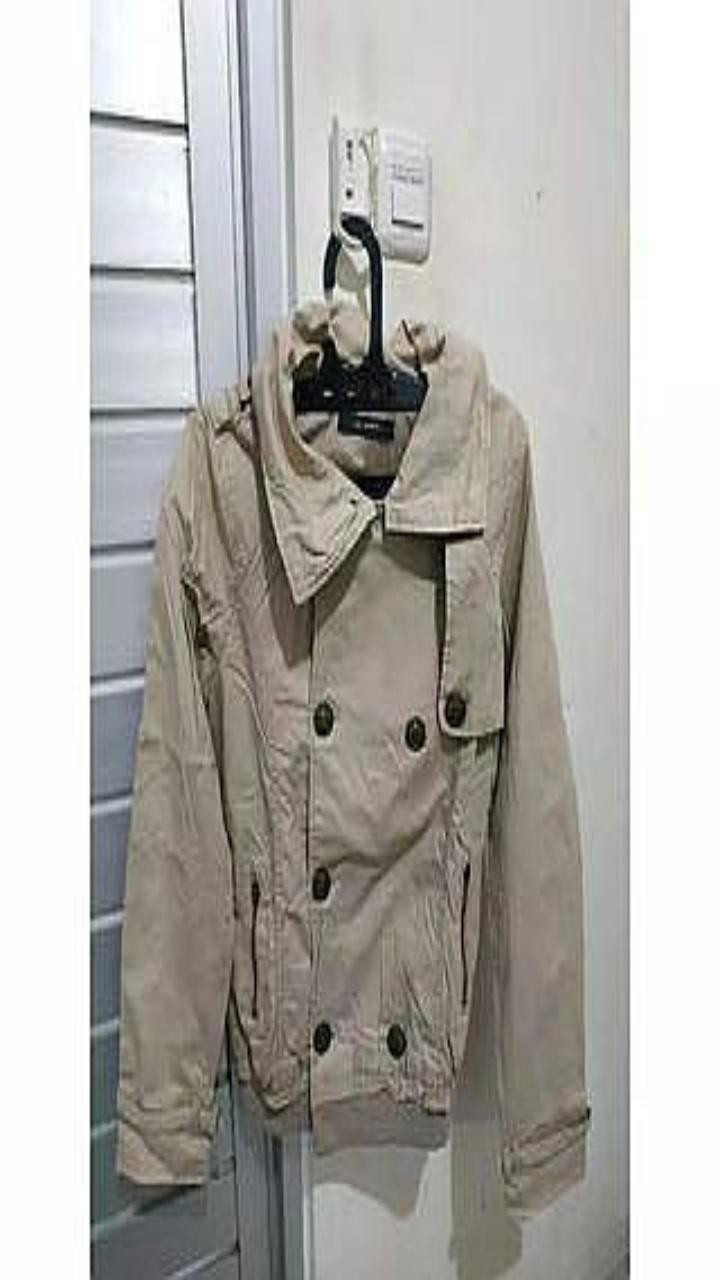Sports_Jacket: (117, 301, 589, 1211)
